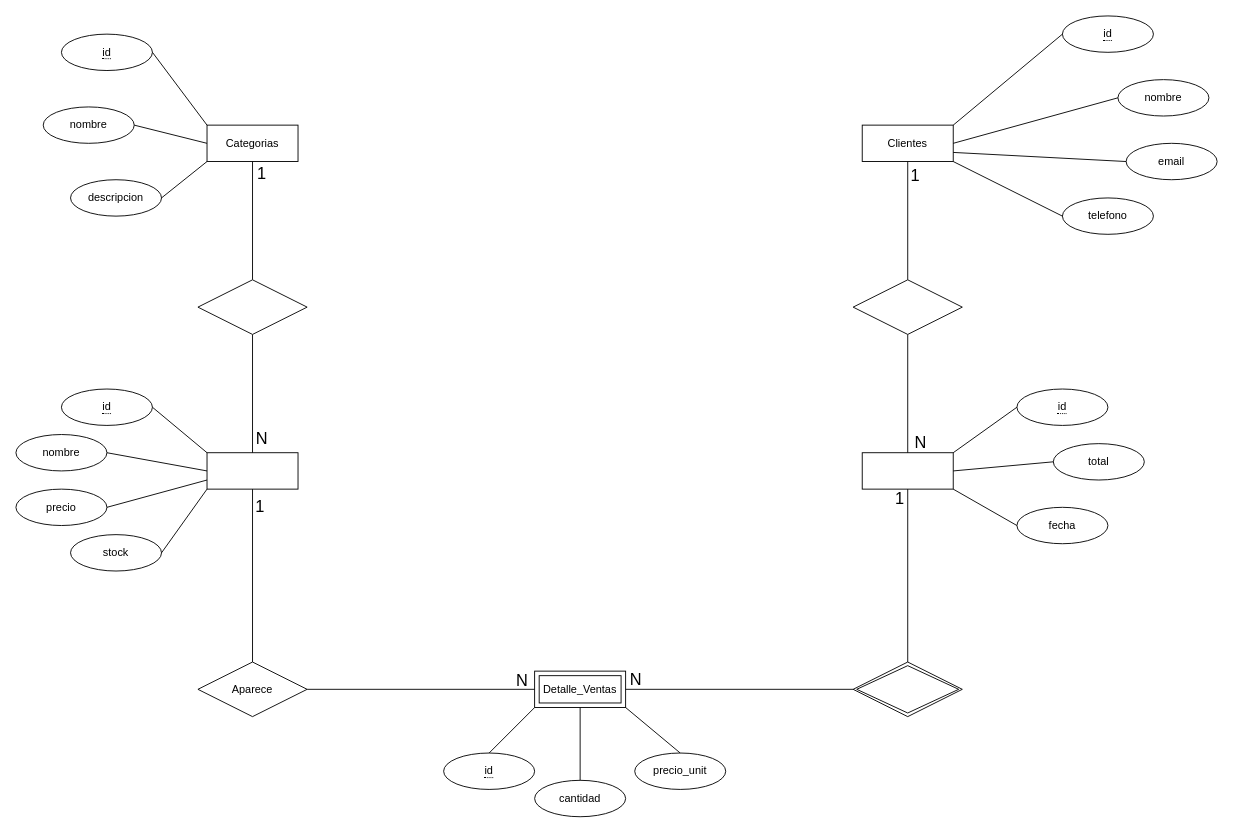
Some shapes in this 1233 by 833 pixel diagram are drawn without their labels. Each missing label, with the centre of its shape:
"Compra" belongs at (x=907, y=306).
"Contiene" belongs at (x=907, y=689).
"Pertenece" belongs at (x=252, y=306).
"Productos" belongs at (x=252, y=470).
"Ventas" belongs at (x=907, y=470).
